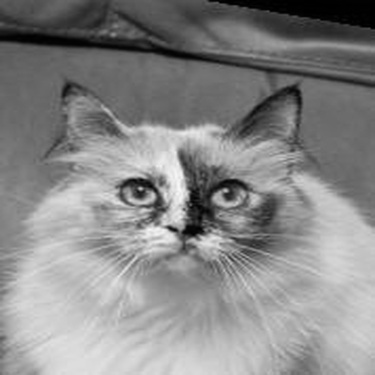cat: (3, 74, 368, 371)
